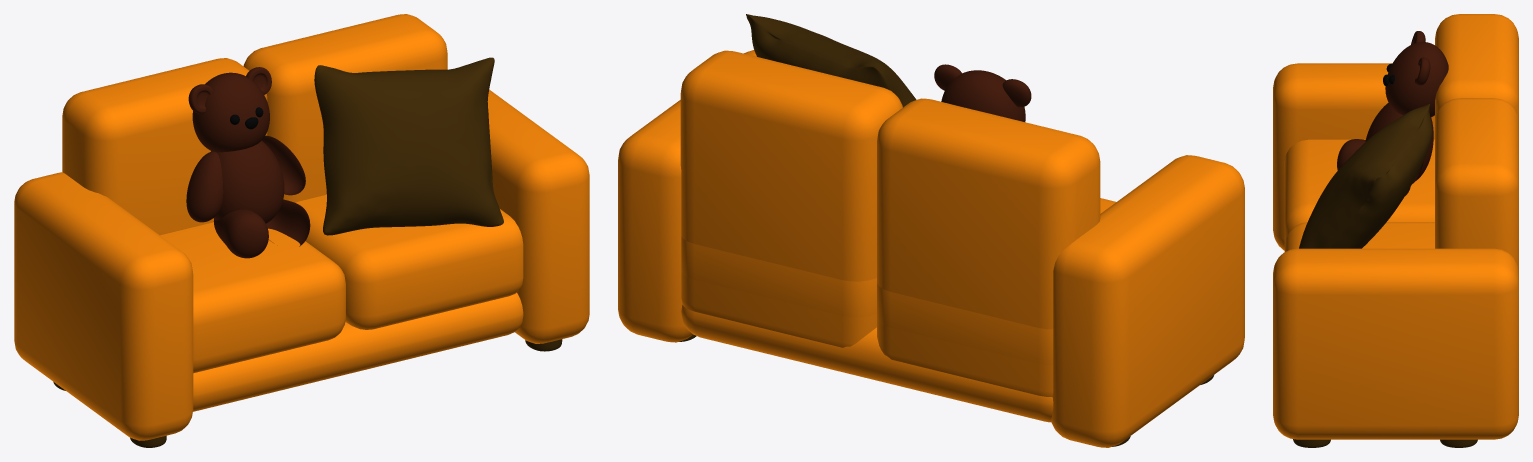
The model's file is 10. Sofa.fbx.
3 views of the same model, side by side, from view 1: azimuth 30°, elevation 25°; view 2: azimuth 150°, elevation 25°; view 3: azimuth 270°, elevation 25° (orthographic). The views are drawn at different scales.
Parts seen in each view (by area): view 1: Cube.030, Plane.009, Cube.031, Cube.032; view 2: Cube.030, Plane.009, Cube.031; view 3: Cube.030, Plane.009, Cube.031, Cube.032.
Part boxes in pixels (x1,y1,x2,y2): Cube.030: (14,14,589,440); Plane.009: (314,57,503,235); Cube.031: (186,67,310,258); Cube.032: (53,339,562,447); Cube.030: (618,50,1244,447); Plane.009: (746,14,916,107); Cube.031: (934,64,1031,121); Cube.030: (1273,14,1518,439); Plane.009: (1299,103,1432,248); Cube.031: (1337,31,1448,195); Cube.032: (1293,439,1477,447).
Bounding box in the file's own units: 257 × 152 × 123.
